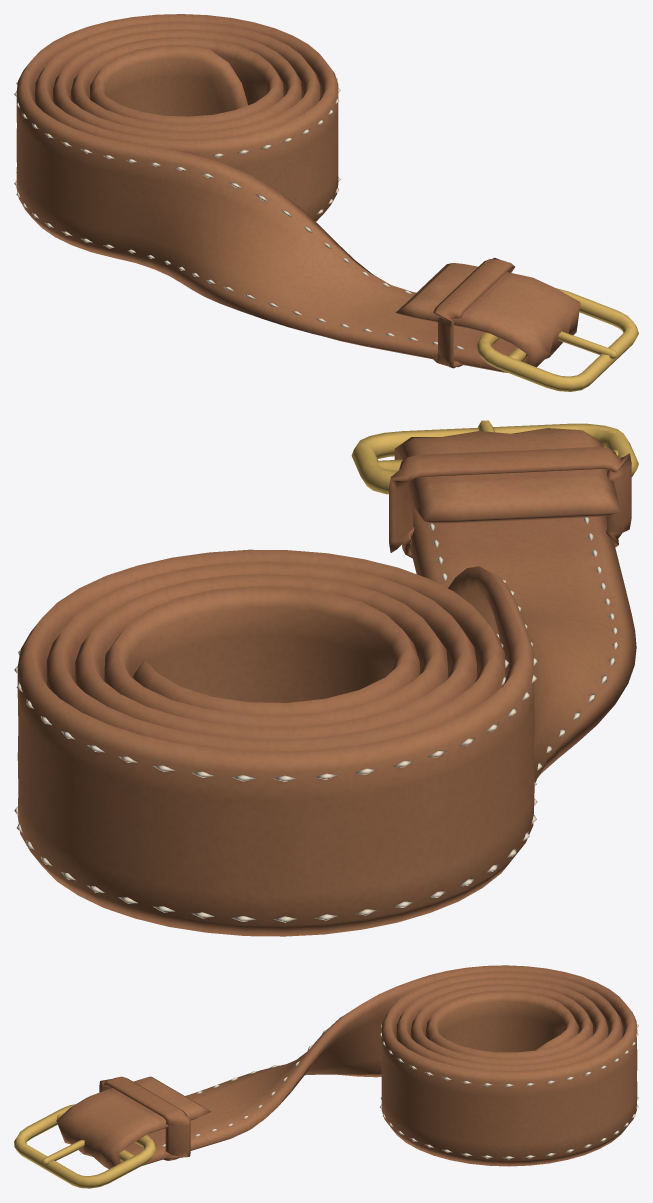
Rendered from belt.glb.
3 views of the same model, one above another, from view 1: azimuth 30°, elevation 25°; view 2: azimuth 150°, elevation 25°; view 3: azimuth 270°, elevation 25° (orthographic). The views are drawn at different scales.
Visible parts, largest first — view 1: belt_body; view 2: belt_body; view 3: belt_body.
Boxes of the visible parts, x1,y1,x2,y2 form: belt_body: (14, 14, 638, 391); belt_body: (14, 420, 638, 936); belt_body: (14, 965, 638, 1188).
Bounding box in the file's own units: 0.1072 × 0.0351 × 0.2084.
Materials: 1 (1 with a texture image).
